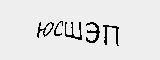П: (102, 22, 121, 48)
С: (54, 18, 64, 37)
Ш: (62, 19, 84, 39)
Э: (85, 18, 99, 44)
Ю: (35, 19, 54, 39)
